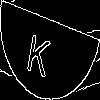K: (25, 24, 53, 78)
